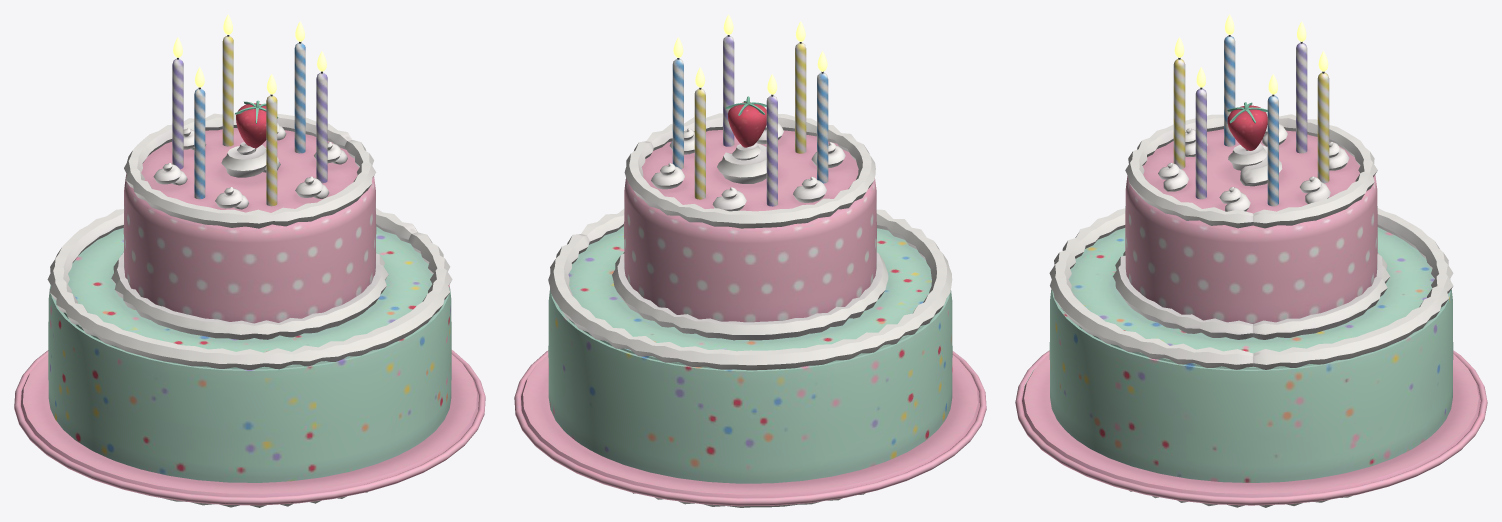
3 views of the same model, side by side, from view 1: azimuth 30°, elevation 25°; view 2: azimuth 150°, elevation 25°; view 3: azimuth 270°, elevation 25° (orthographic).
Parts seen in each view (by area): view 1: birthday-cake_body, birthday-cake_flames; view 2: birthday-cake_body, birthday-cake_flames; view 3: birthday-cake_body, birthday-cake_flames.
Part boxes in pixels (bbox=[...]): birthday-cake_body: bbox=[14, 35, 485, 507]; birthday-cake_flames: bbox=[173, 14, 326, 94]; birthday-cake_body: bbox=[514, 35, 986, 507]; birthday-cake_flames: bbox=[673, 14, 827, 94]; birthday-cake_body: bbox=[1015, 35, 1487, 507]; birthday-cake_flames: bbox=[1174, 14, 1328, 94].
Bounding box in the file's own units: 0.2814 × 0.254 × 0.2814.
2 materials, 1 textured.
